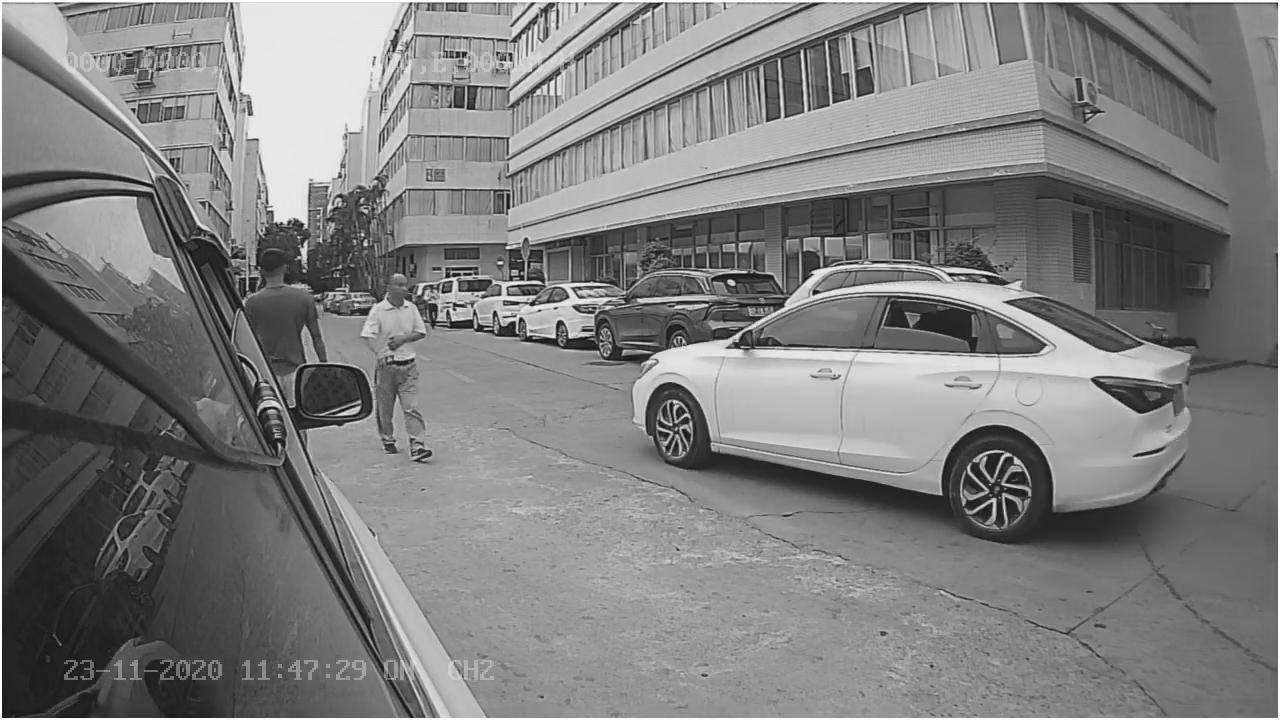person: (363, 256, 443, 355)
